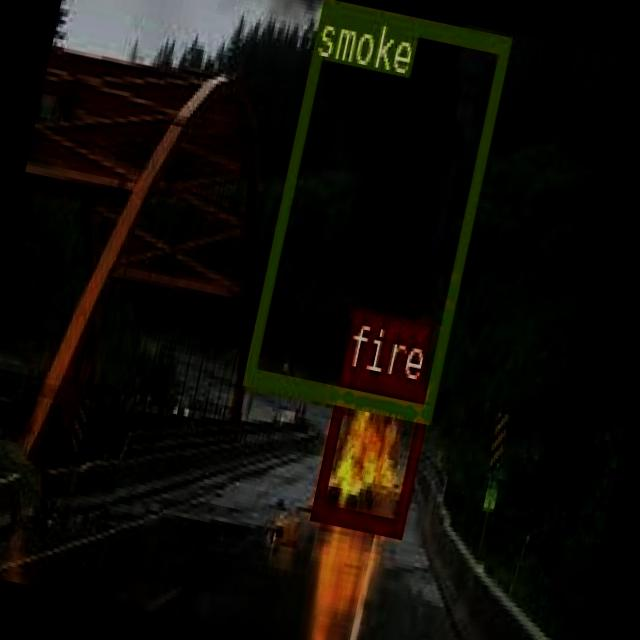fire: (310, 366, 432, 532)
smoke: (241, 0, 510, 418)
